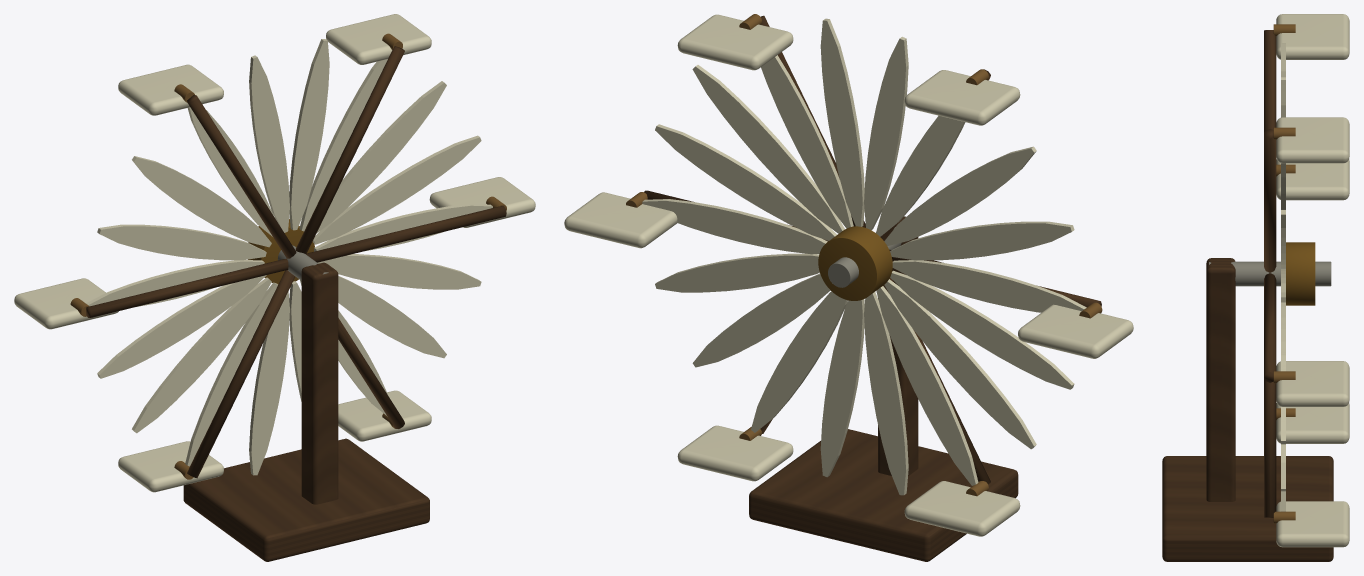
The model's file is E06_DaisyWheel.fbx.
3 renders of one model, left to right at view 1: azimuth 30°, elevation 25°; view 2: azimuth 150°, elevation 25°; view 3: azimuth 270°, elevation 25°, orthographic. The views are drawn at different scales.
Parts seen in each view (by area): view 1: WheelPivot_Mesh, Frame_Mesh, Carrier_1_Mesh, Carrier_2_Mesh, Carrier_5_Mesh, Carrier_0_Mesh, Carrier_4_Mesh, Carrier_3_Mesh; view 2: WheelPivot_Mesh, Frame_Mesh, Carrier_2_Mesh, Carrier_1_Mesh, Carrier_5_Mesh, Carrier_4_Mesh, Carrier_0_Mesh, Carrier_3_Mesh; view 3: Frame_Mesh, WheelPivot_Mesh, Carrier_2_Mesh, Carrier_4_Mesh, Carrier_3_Mesh, Carrier_1_Mesh, Carrier_0_Mesh, Carrier_5_Mesh.
Part boxes in pixels (x1,y1,x2,y2): WheelPivot_Mesh: (86, 39, 506, 478); Frame_Mesh: (183, 245, 429, 561); Carrier_1_Mesh: (118, 64, 223, 115); Carrier_2_Mesh: (326, 14, 431, 64); Carrier_5_Mesh: (118, 441, 223, 492); Carrier_0_Mesh: (14, 278, 118, 329); Carrier_4_Mesh: (338, 390, 431, 441); Carrier_3_Mesh: (429, 177, 535, 227); WheelPivot_Mesh: (642, 15, 1101, 495); Frame_Mesh: (749, 216, 1018, 561); Carrier_2_Mesh: (677, 14, 793, 70); Carrier_1_Mesh: (904, 69, 1020, 125); Carrier_5_Mesh: (904, 481, 1020, 536); Carrier_4_Mesh: (677, 425, 793, 481); Carrier_0_Mesh: (1018, 302, 1133, 358); Carrier_3_Mesh: (564, 192, 677, 248); Frame_Mesh: (1162, 258, 1333, 561); WheelPivot_Mesh: (1264, 30, 1315, 518); Carrier_2_Mesh: (1273, 117, 1349, 163); Carrier_4_Mesh: (1273, 501, 1349, 547); Carrier_3_Mesh: (1273, 361, 1349, 406); Carrier_1_Mesh: (1273, 14, 1349, 59); Carrier_0_Mesh: (1276, 159, 1349, 200); Carrier_5_Mesh: (1276, 403, 1349, 443).
Bounding box in the file's own units: 0.472 × 0.4164 × 0.153.
